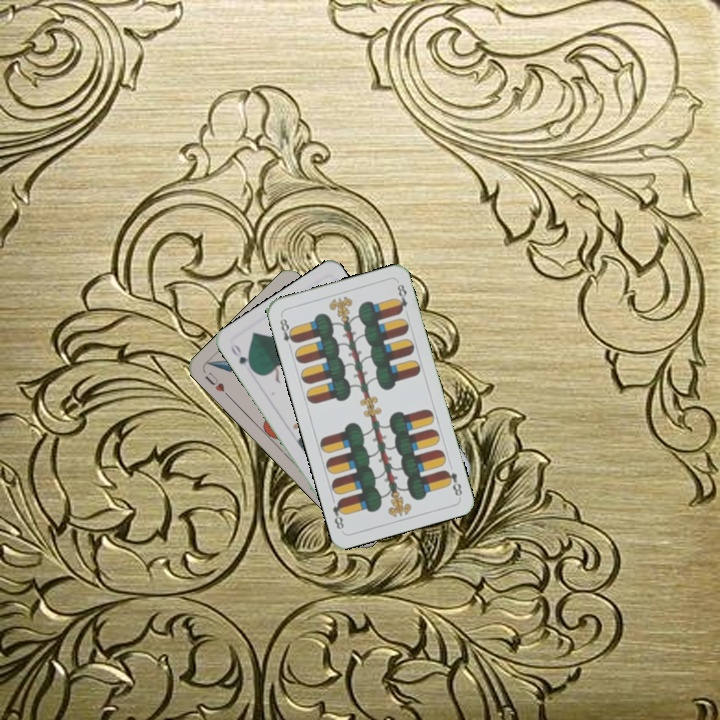E8: (276, 314, 299, 352), (440, 466, 465, 498)
GO: (227, 340, 257, 374)
HU: (200, 368, 232, 400)
